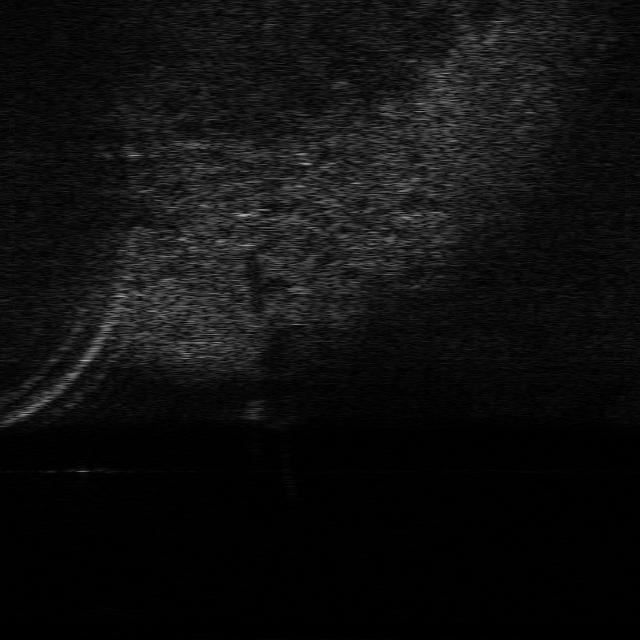cylinder: (242, 398, 266, 424)
